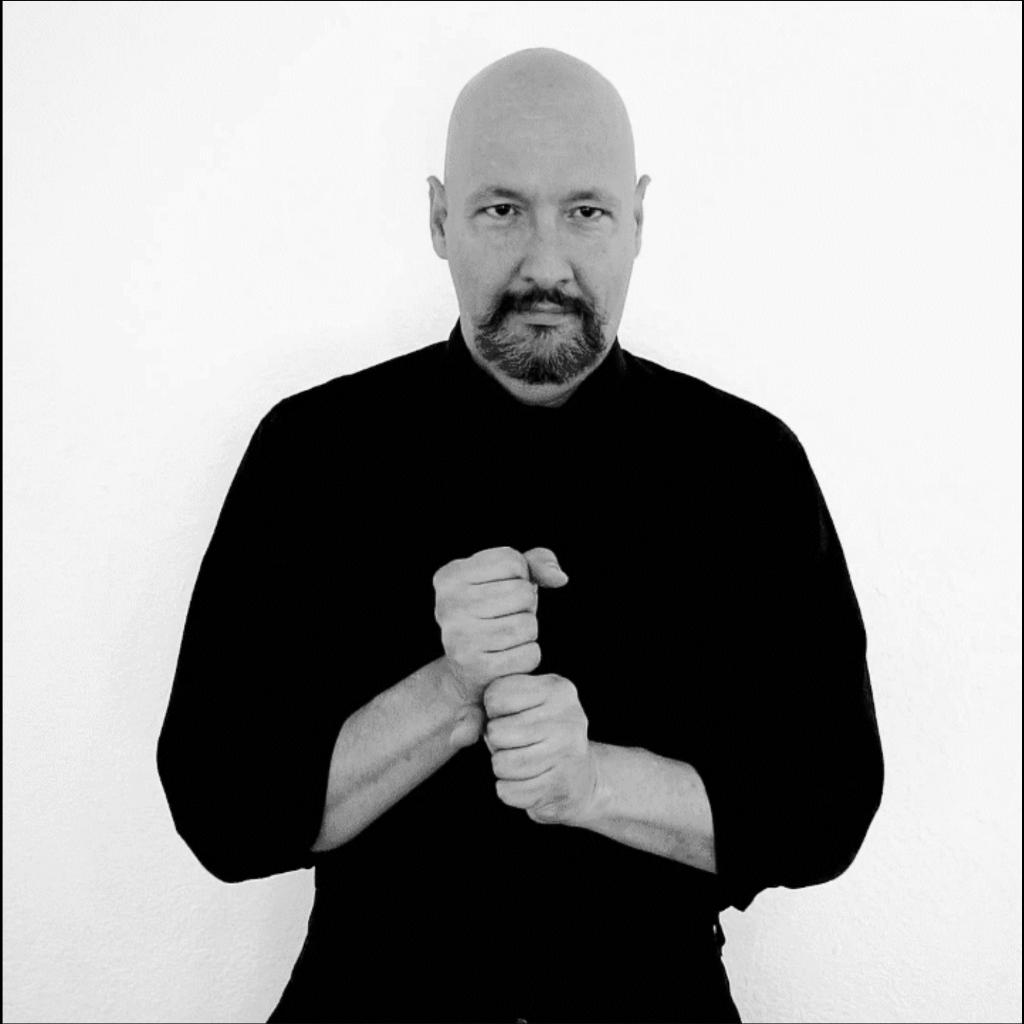get: (434, 546, 588, 824)
